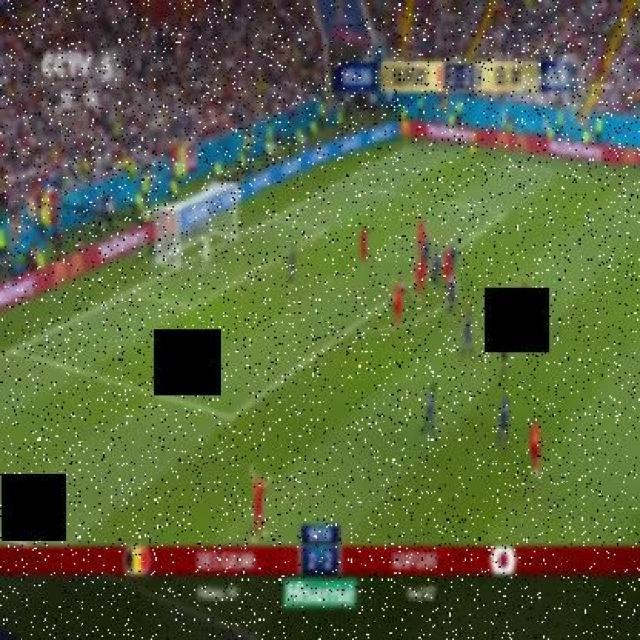football: (167, 450, 173, 470)
